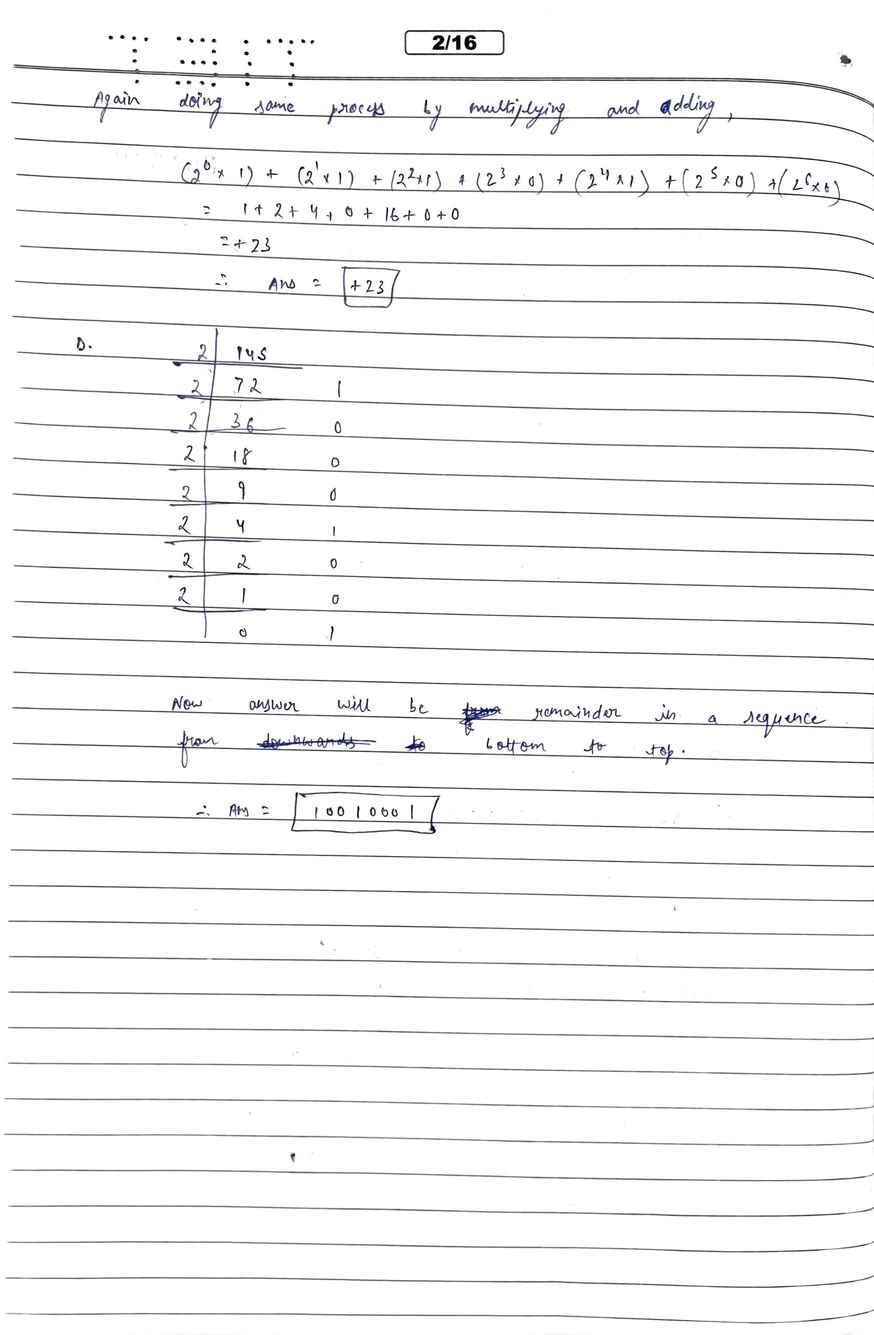cuttings: (256, 732, 377, 750), (459, 701, 503, 736), (405, 735, 426, 752), (661, 99, 673, 114)
